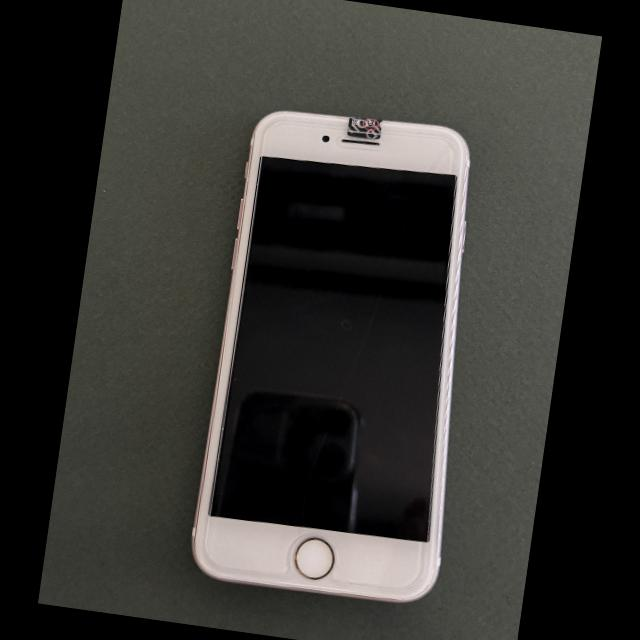phone: (193, 112, 470, 602)
sticker: (347, 116, 383, 141)
